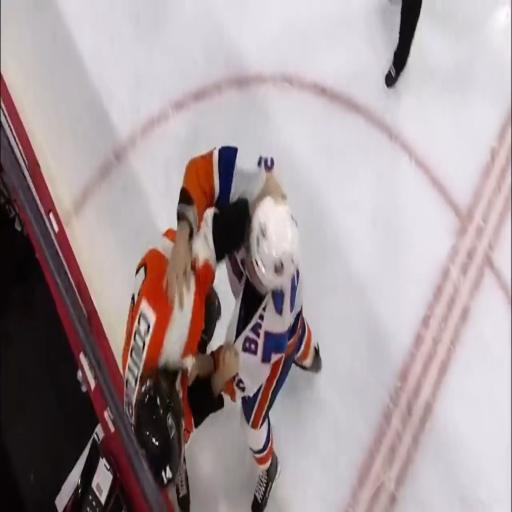violencia: (103, 129, 328, 506)
